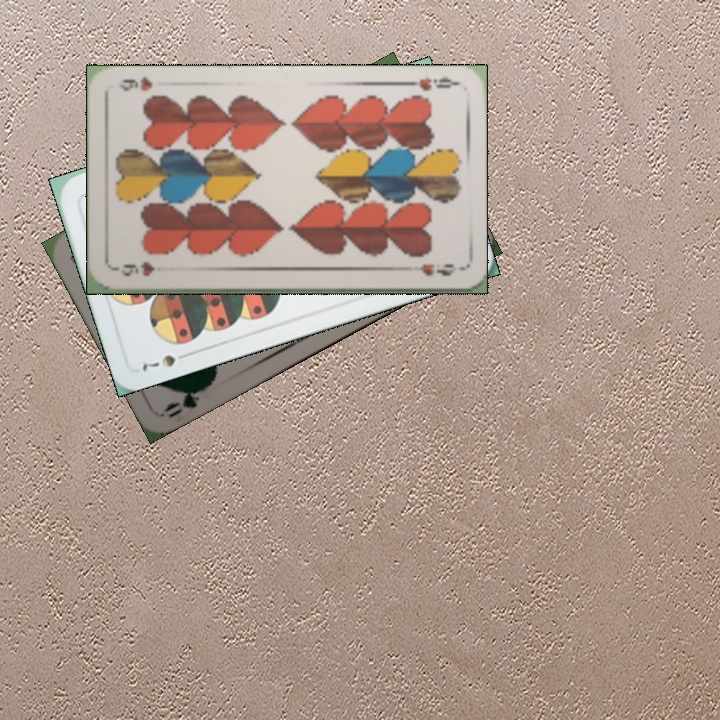GO: (160, 380, 214, 415)
H9: (401, 72, 460, 94), (112, 258, 158, 279)
S7: (137, 348, 193, 374)
